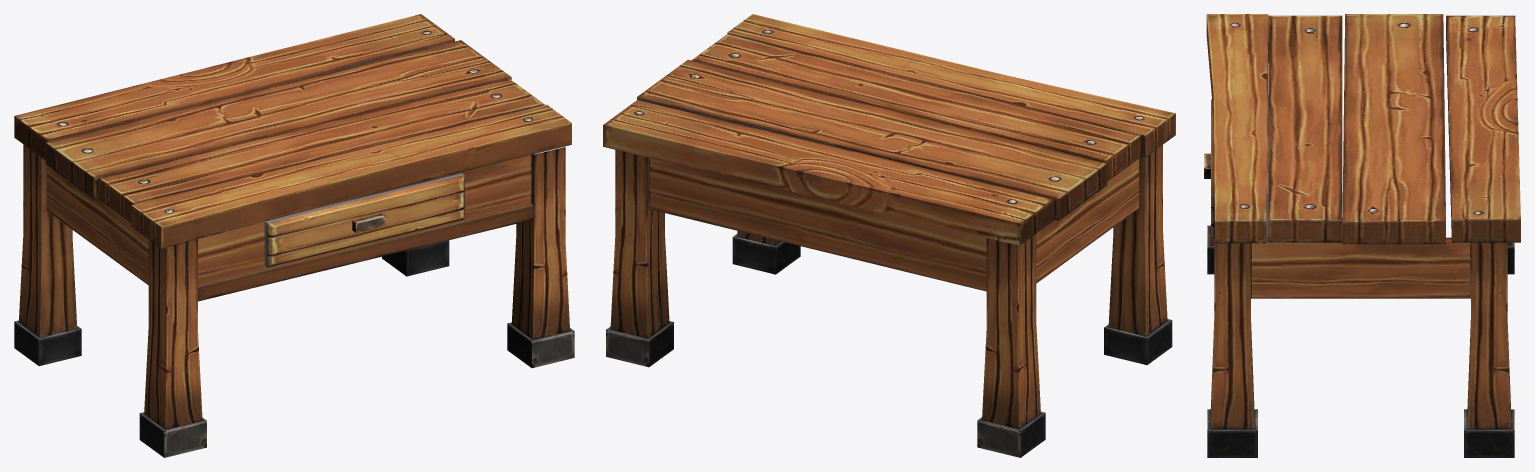
File: SM_table_00.gltf
3 views of the same model, side by side, from view 1: azimuth 30°, elevation 25°; view 2: azimuth 150°, elevation 25°; view 3: azimuth 270°, elevation 25° (orthographic). The views are drawn at different scales.
Visible parts, largest first — view 1: SM_table_00; view 2: SM_table_00; view 3: SM_table_00.
Part boxes in pixels (bbox=[...]): SM_table_00: bbox=[14, 14, 574, 457]; SM_table_00: bbox=[603, 14, 1175, 457]; SM_table_00: bbox=[1204, 14, 1520, 457].
Size of the model in its own units: 1.26 by 0.672 by 0.8135.
1 material, 1 textured.
